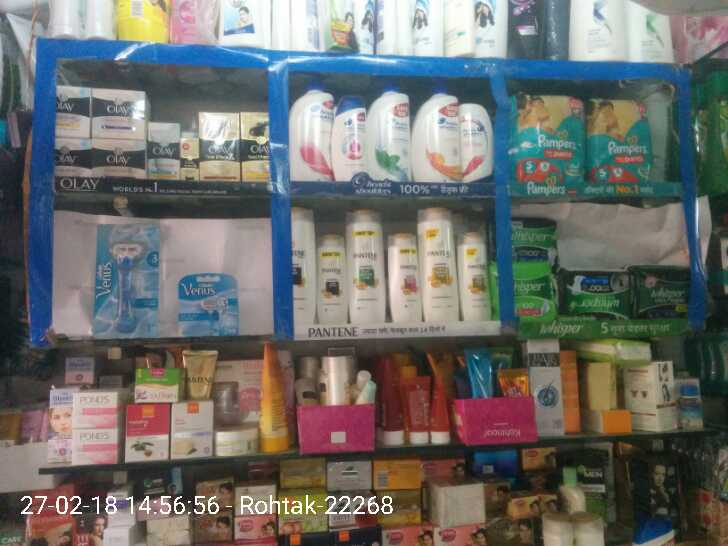venus: (93, 224, 161, 338), (177, 276, 240, 338)
